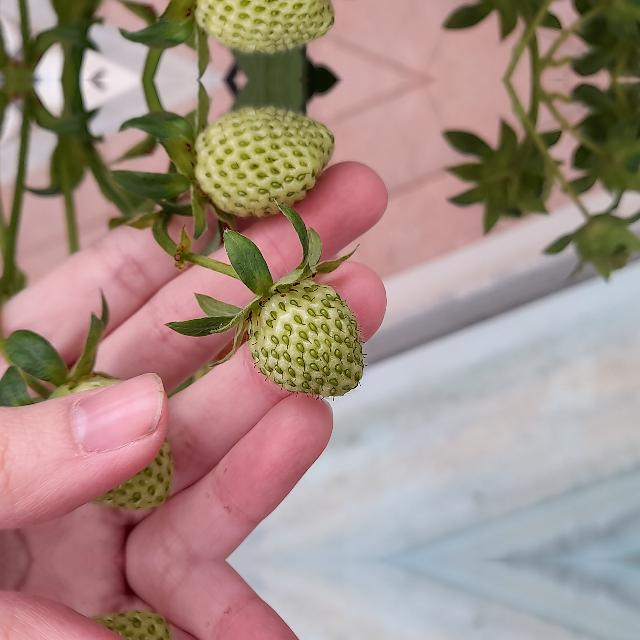Health_25: (247, 279, 363, 396)
